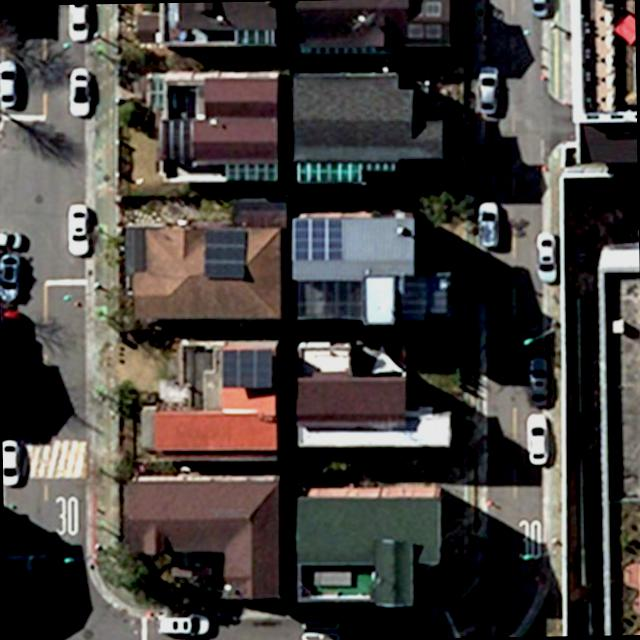solar: (202, 226, 248, 282), (220, 347, 276, 391), (292, 217, 344, 264)
